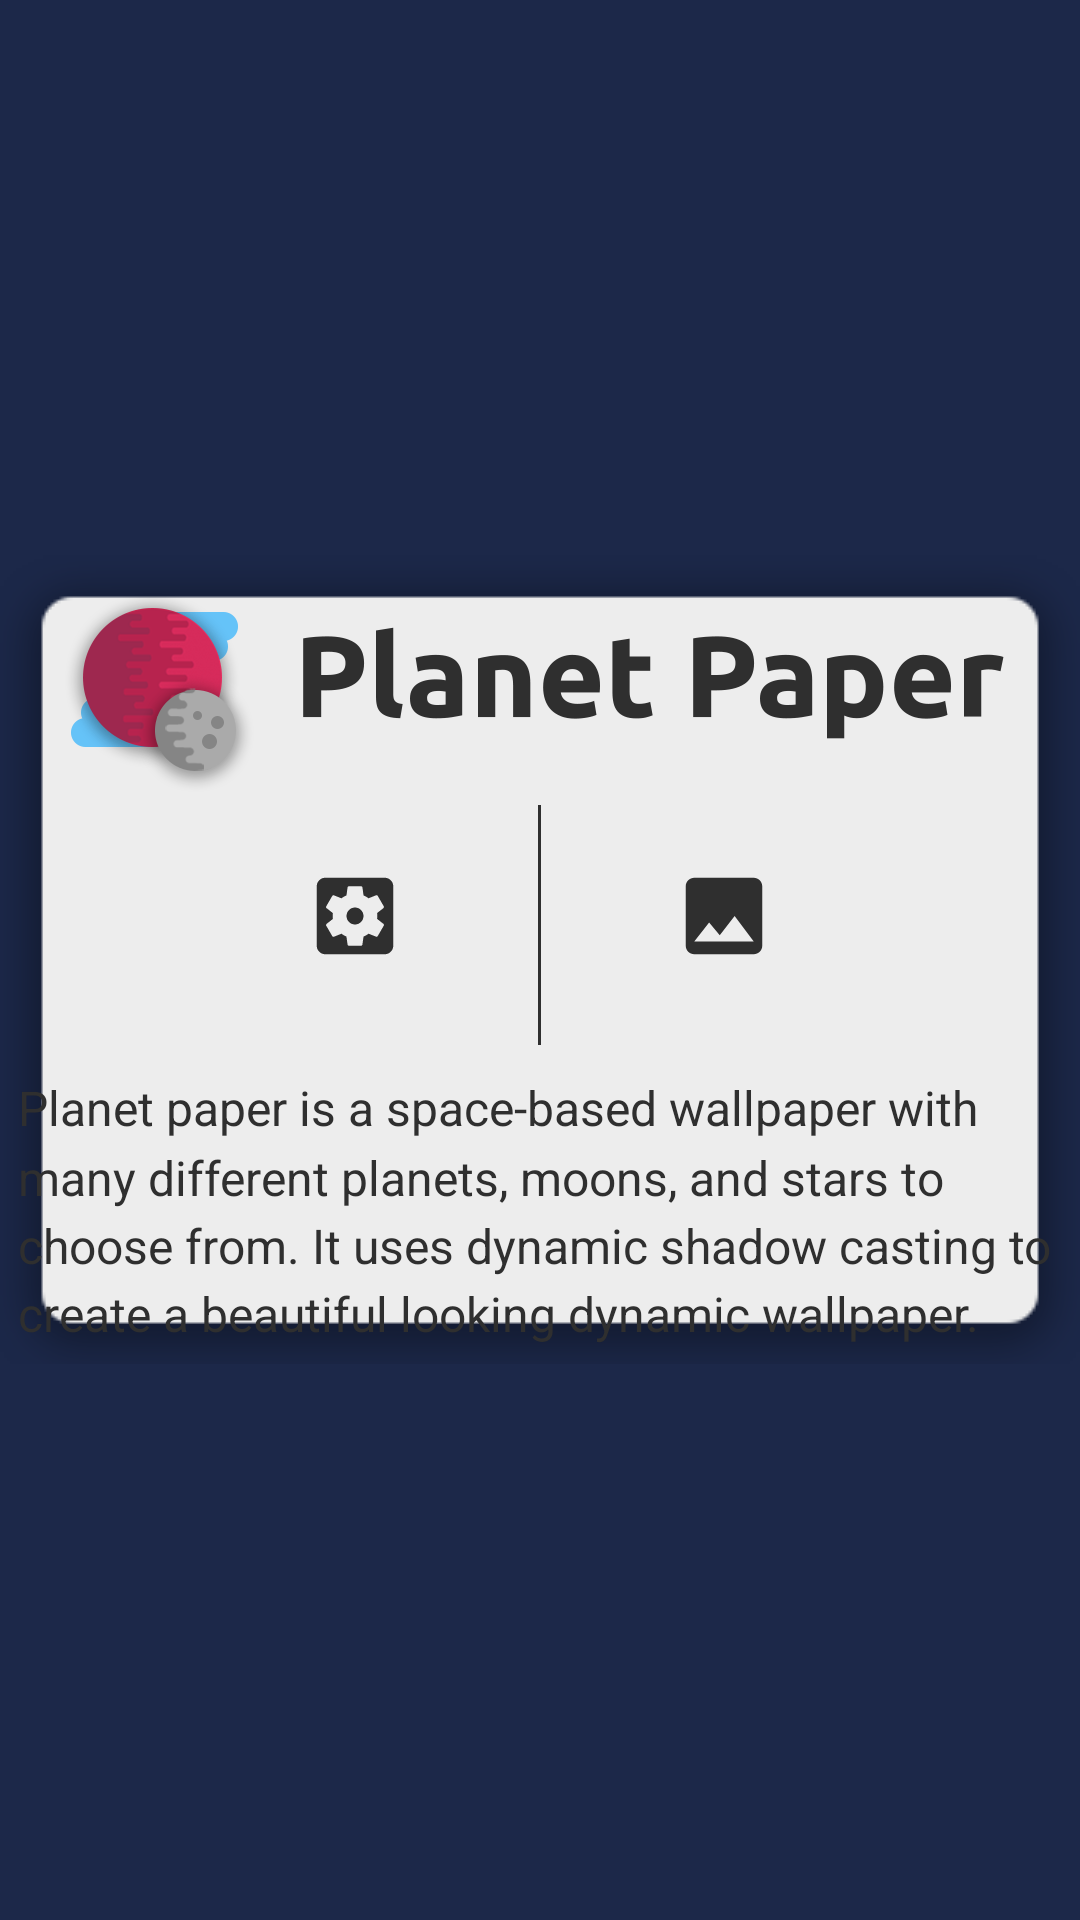

Where to tap for icons on this 1080×1920 app screen, as (x,y):
Settings: (355,916)
